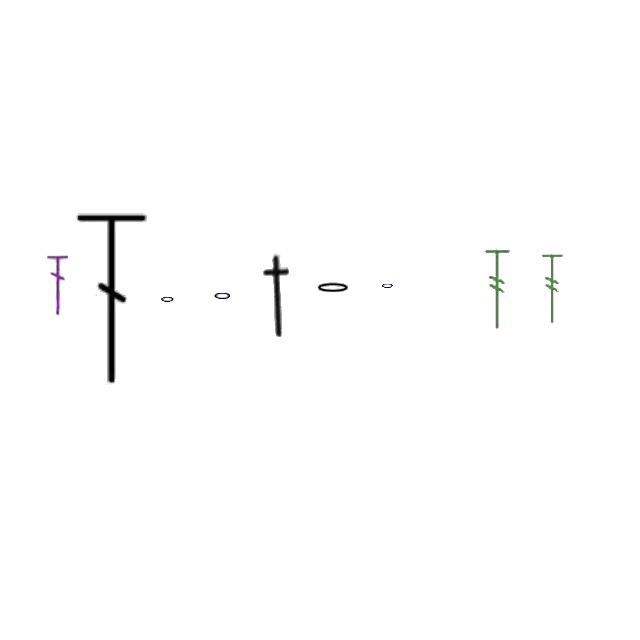chain: (74, 208, 152, 390), (48, 252, 68, 316)
double: (253, 253, 303, 339)
half_double: (482, 246, 514, 334), (540, 251, 566, 327)
treble: (315, 281, 351, 295), (214, 290, 232, 302), (160, 294, 176, 304), (382, 282, 394, 290)
